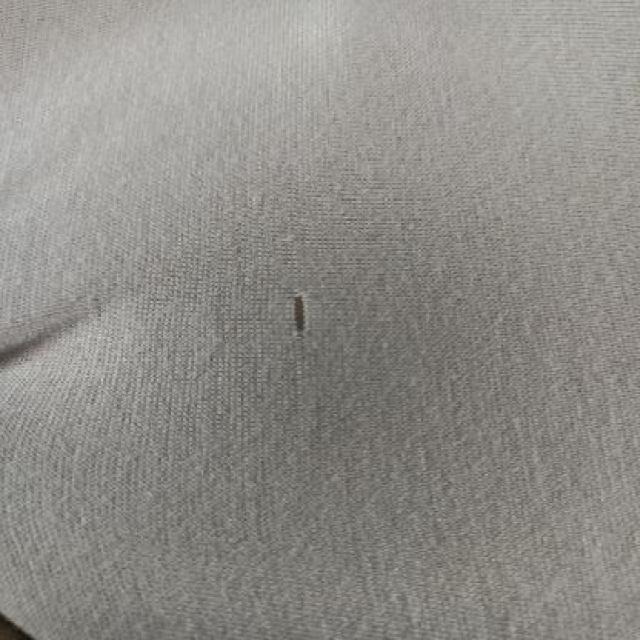other: (272, 266, 328, 356)
